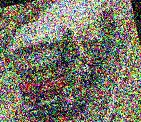truck: (0, 0, 132, 122)
